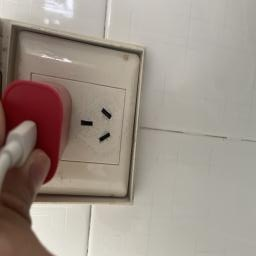outlet: (0, 28, 155, 209)
